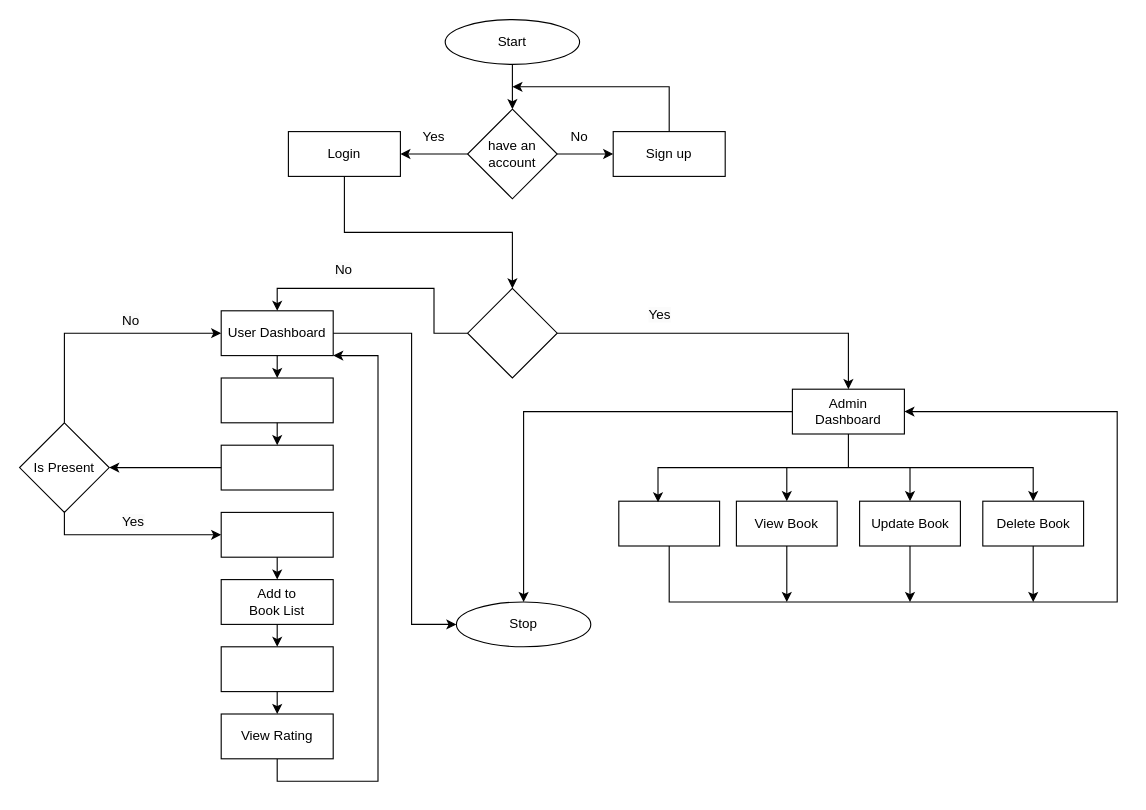
The diagram is 1146 pixels wide and 810 high, and some of its shapes have lost their labels. Each missing label, with the centre of its shape:
Add Book: the point at 669,523
Display Books: the point at 276,400
Is Admin: the point at 511,332
Rate The Book: the point at 276,669
Search Books: the point at 276,467
View Book Details: the point at 276,534
